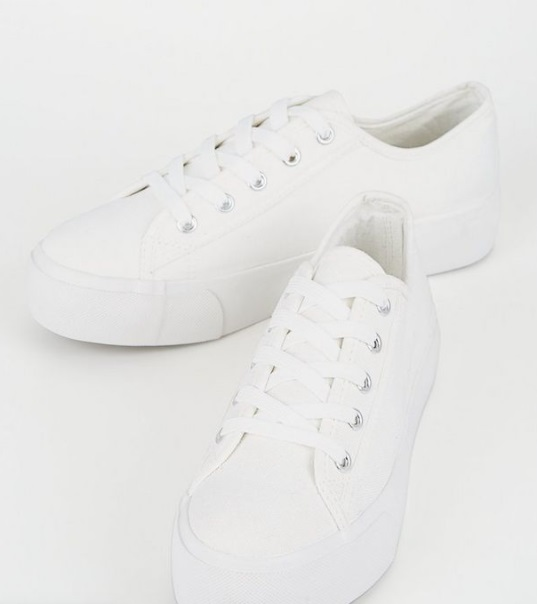White: (11, 75, 480, 604)
